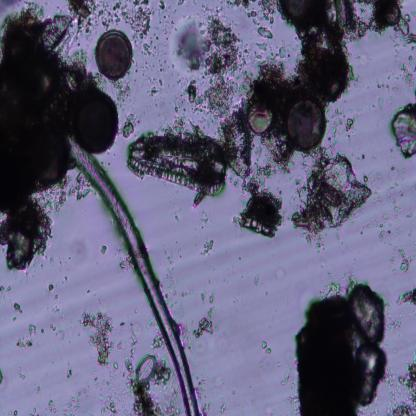Background material: (0, 9, 72, 271), (288, 280, 390, 414), (273, 0, 366, 100), (287, 148, 371, 238), (95, 295, 142, 410), (217, 106, 282, 179), (201, 15, 238, 119), (243, 42, 285, 121), (233, 178, 286, 238), (367, 195, 416, 246), (364, 0, 416, 48), (376, 47, 416, 107), (166, 16, 208, 72), (80, 309, 115, 370), (129, 375, 174, 413), (161, 237, 185, 305), (389, 101, 416, 161), (391, 356, 416, 416), (163, 109, 201, 135), (94, 0, 123, 33), (126, 0, 153, 34), (68, 0, 95, 27), (194, 306, 216, 338), (154, 359, 176, 389), (330, 111, 344, 155), (15, 323, 40, 347), (148, 73, 167, 104), (155, 11, 178, 36), (390, 246, 412, 272), (234, 0, 260, 21), (396, 287, 416, 307), (120, 113, 135, 139), (185, 81, 200, 104), (195, 334, 209, 358), (212, 375, 226, 399), (252, 341, 274, 356), (201, 236, 216, 258), (305, 237, 327, 251), (257, 27, 275, 43), (136, 59, 154, 74), (0, 280, 13, 298), (63, 396, 84, 407), (10, 300, 22, 318), (50, 320, 62, 337), (155, 57, 168, 72), (99, 242, 111, 257), (144, 43, 156, 58), (345, 116, 354, 135), (30, 381, 43, 393), (219, 401, 229, 416), (278, 44, 287, 60), (26, 404, 38, 416), (256, 41, 270, 51), (207, 293, 216, 308), (64, 365, 72, 380), (0, 365, 5, 388), (52, 298, 58, 315), (45, 399, 56, 408), (45, 284, 57, 292), (254, 278, 262, 288), (152, 31, 160, 41), (10, 408, 19, 416), (176, 0, 184, 8), (17, 372, 25, 380), (159, 0, 165, 10), (174, 214, 180, 223)
Diatom: (125, 132, 232, 196), (69, 84, 120, 154), (289, 97, 327, 153), (96, 30, 135, 80), (37, 16, 74, 52), (248, 105, 275, 134), (134, 353, 158, 384)
Microfibre: (64, 136, 203, 415)
